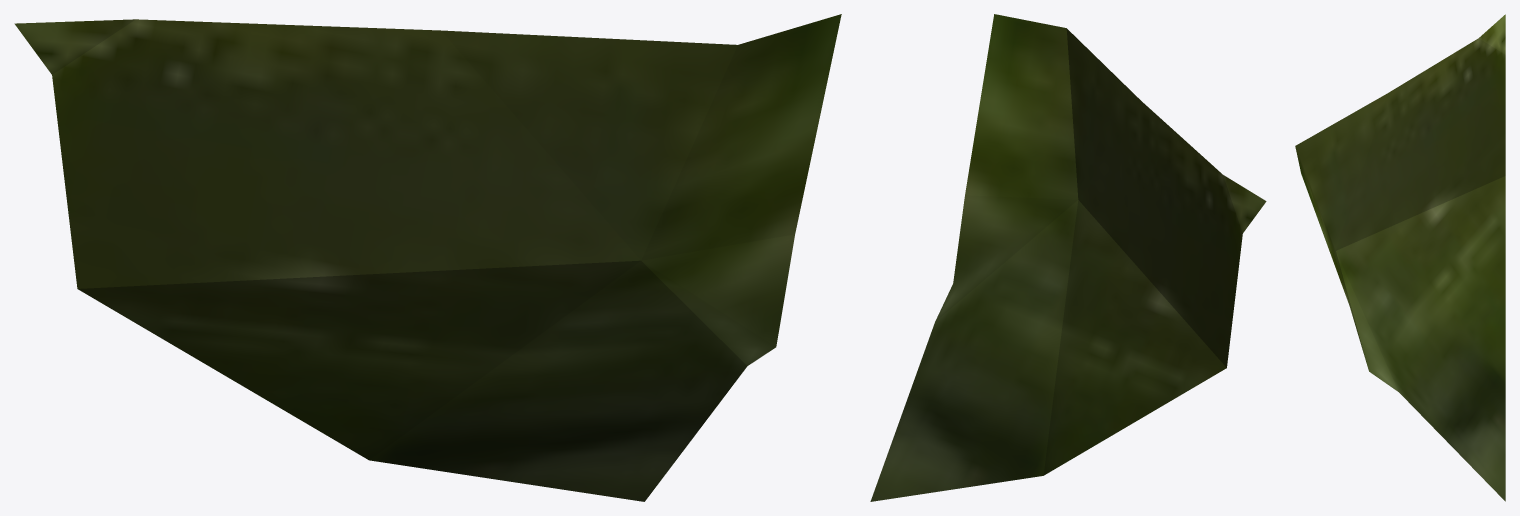
The picture shows the model from 3 angles, left to right: view 1: azimuth 30°, elevation 25°; view 2: azimuth 150°, elevation 25°; view 3: azimuth 270°, elevation 25°; orthographic projection. The views are drawn at different scales.
Bounding box in the file's own units: 0.2875 × 0.2755 × 0.1602.
Materials: 1 (1 with a texture image).
